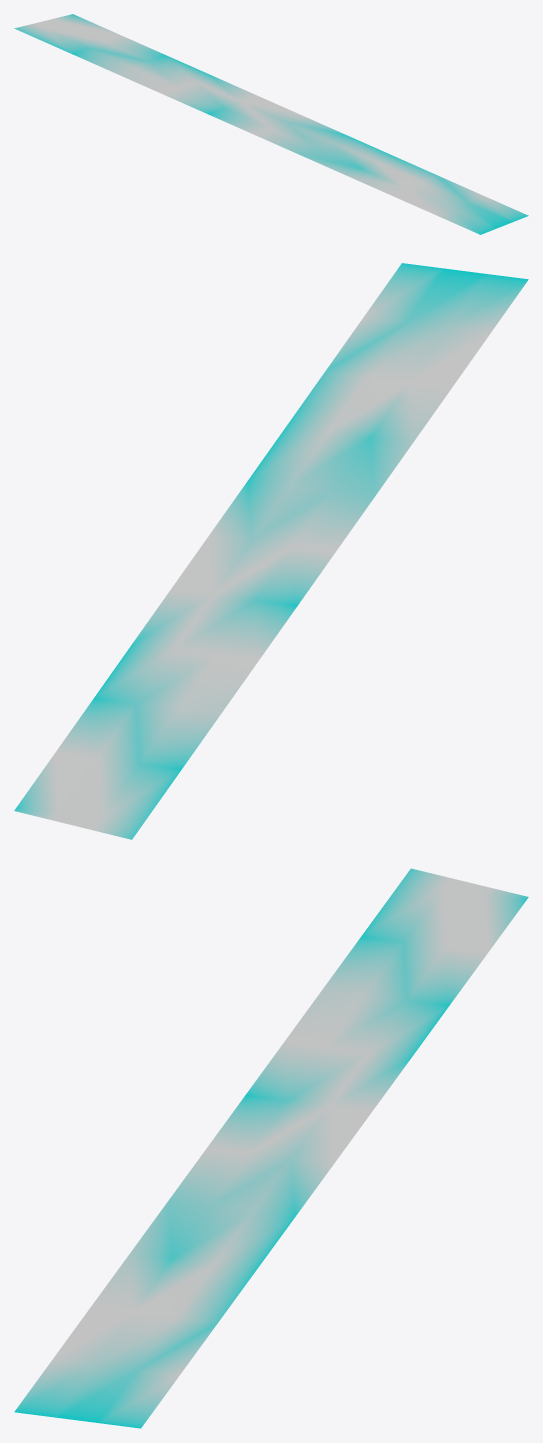
The picture shows the model from 3 angles, top to bottom: view 1: azimuth 30°, elevation 25°; view 2: azimuth 150°, elevation 25°; view 3: azimuth 330°, elevation 25°; orthographic projection. The views are drawn at different scales.
Visible parts, largest first — view 1: SpaceCenter_Long3_GenerateRoad_Asphalt_PCGMesh_Decal_Mesh_x1; view 2: SpaceCenter_Long3_GenerateRoad_Asphalt_PCGMesh_Decal_Mesh_x1; view 3: SpaceCenter_Long3_GenerateRoad_Asphalt_PCGMesh_Decal_Mesh_x1.
Part boxes in pixels (left/top/right/bottom): SpaceCenter_Long3_GenerateRoad_Asphalt_PCGMesh_Decal_Mesh_x1: left=14, top=14, right=528, bottom=234; SpaceCenter_Long3_GenerateRoad_Asphalt_PCGMesh_Decal_Mesh_x1: left=14, top=263, right=528, bottom=839; SpaceCenter_Long3_GenerateRoad_Asphalt_PCGMesh_Decal_Mesh_x1: left=14, top=868, right=528, bottom=1428.
Size of the model in its own units: 361 by 119 by 2.5.
